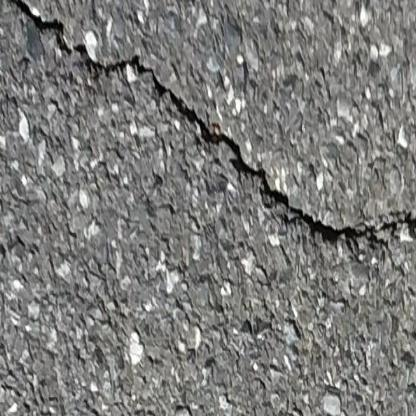Cracks: (0, 0, 416, 251)
